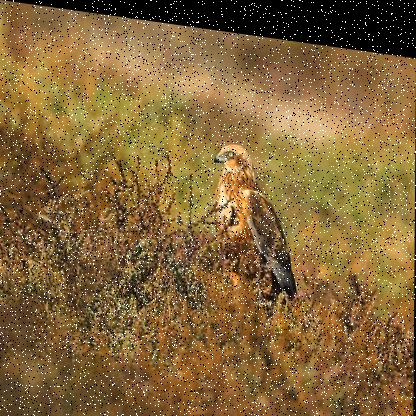Burung: (205, 132, 300, 303)
